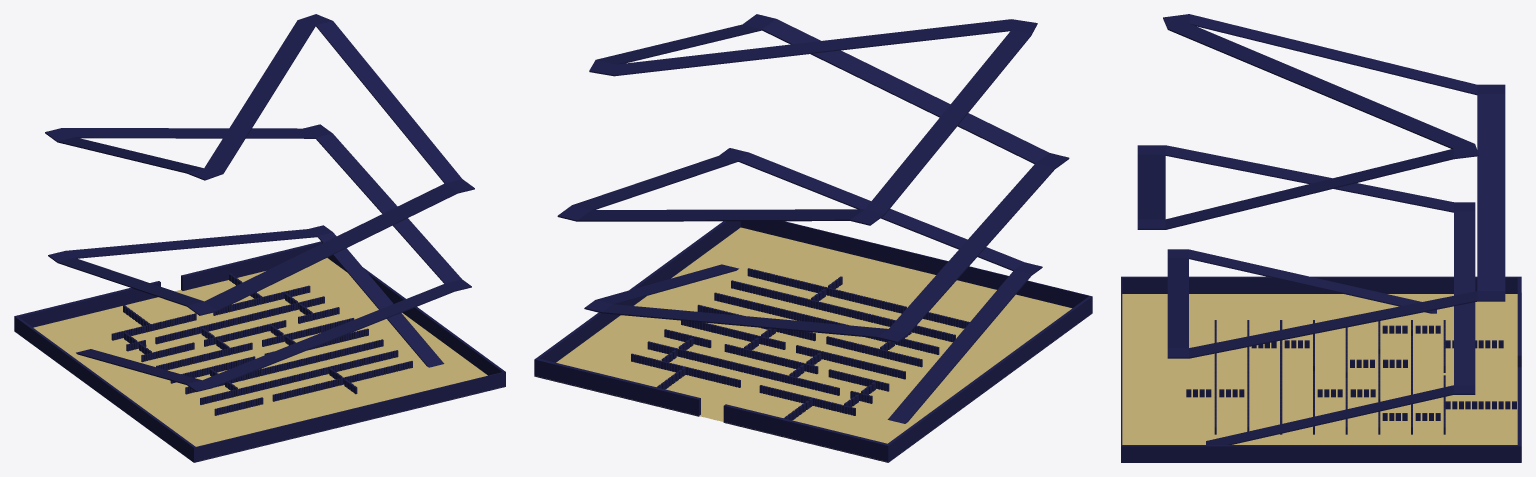
Rendered from frame 1.fbx.
3 renders of one model, left to right at view 1: azimuth 30°, elevation 25°; view 2: azimuth 150°, elevation 25°; view 3: azimuth 270°, elevation 25°, orthographic. The views are drawn at different scales.
Parts seen in each view (by area): view 1: 立方体, 立方体.006, 立方体.004, 立方体.008; view 2: 立方体, 立方体.006, 立方体.004, 立方体.008; view 3: 立方体, 立方体.006, 立方体.004, 立方体.008.
Boxes of the visible parts, x1,y1,x2,y2 form: 立方体: (33, 258, 487, 446); 立方体.006: (45, 14, 474, 391); 立方体.004: (14, 241, 505, 462); 立方体.008: (111, 273, 412, 415); 立方体: (535, 227, 1071, 460); 立方体.006: (557, 14, 1069, 423); 立方体.004: (534, 221, 1092, 462); 立方体.008: (631, 268, 969, 420); 立方体: (1122, 293, 1521, 461); 立方体.006: (1137, 14, 1505, 444); 立方体.004: (1121, 276, 1521, 462); 立方体.008: (1186, 320, 1516, 434).
Bounding box in the file's own units: 10000 × 8078 × 10000.
